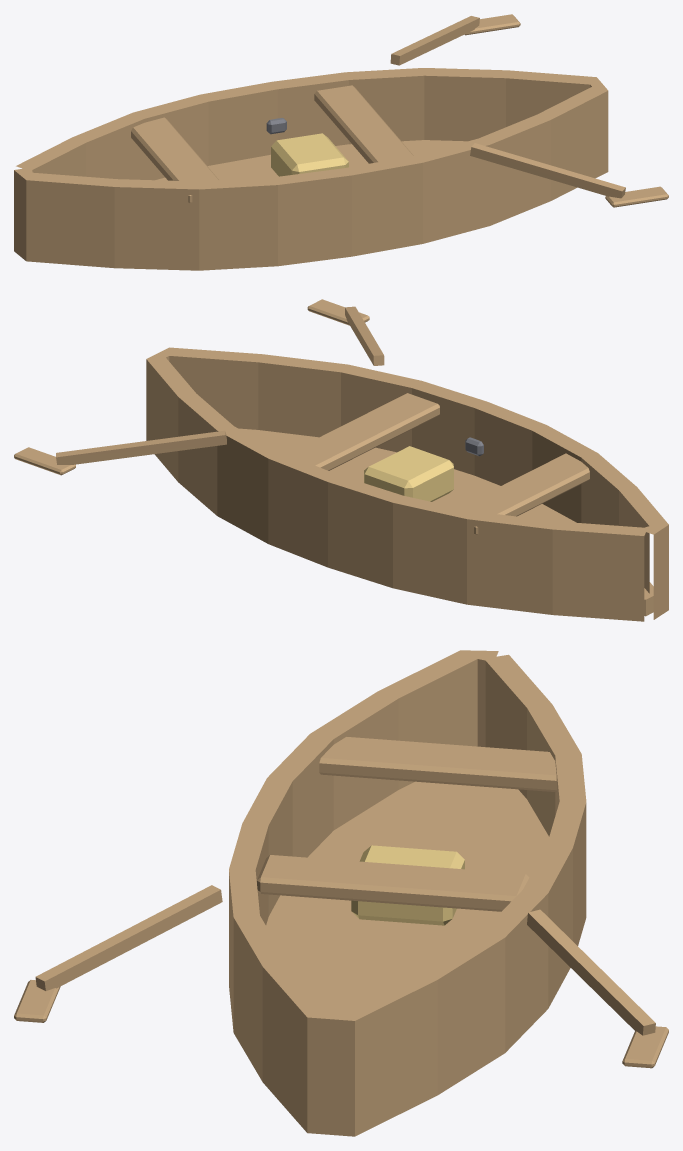
Rendered from town_rowing_boat.glb.
3 views of the same model, one above another, from view 1: azimuth 30°, elevation 25°; view 2: azimuth 150°, elevation 25°; view 3: azimuth 270°, elevation 25° (orthographic). The views are drawn at different scales.
Visible parts, largest first — view 1: world; view 2: world; view 3: world.
Boxes of the visible parts, x1,y1,x2,y2 form: world: (14,14,668,270); world: (14,299,668,621); world: (14,650,668,1136).
Size of the model in its own units: 2 by 0.3135 by 1.44.
